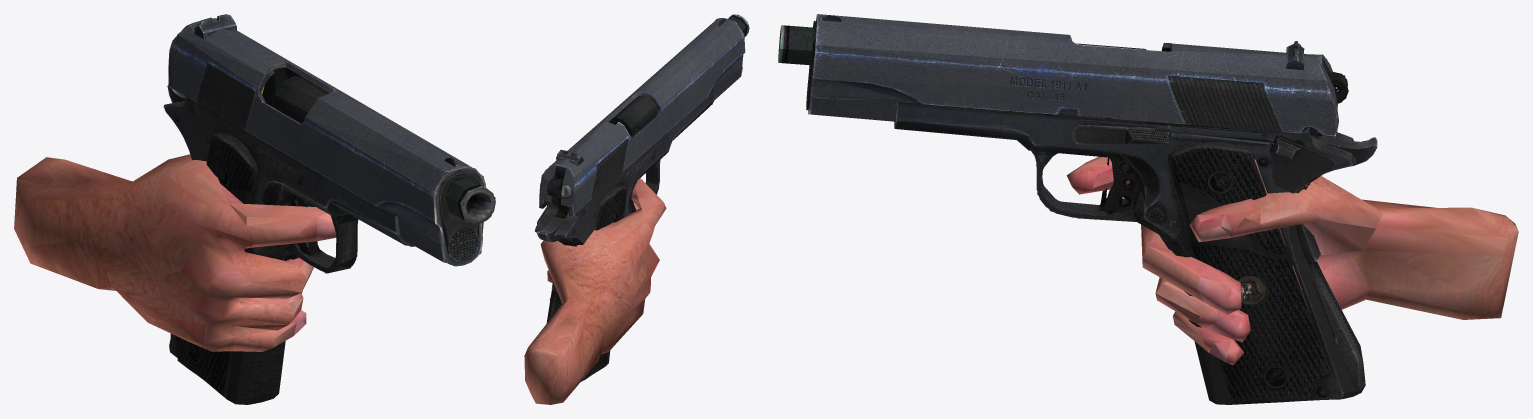
Rendered from Gun_000004.obj.
3 renders of one model, left to right at view 1: azimuth 30°, elevation 25°; view 2: azimuth 150°, elevation 25°; view 3: azimuth 270°, elevation 25°, orthographic. The views are drawn at different scales.
Visible parts, largest first — view 1: ZBrushPolyMesh3D, Slide, Mesh_0008; view 2: ZBrushPolyMesh3D, Slide, Mesh_0008, Hammer; view 3: Mesh_0008, Slide, ZBrushPolyMesh3D, Trigger.
Boxes of the visible parts, x1,y1,x2,y2 form: ZBrushPolyMesh3D: (14,154,336,351); Slide: (168,14,486,266); Mesh_0008: (163,76,495,404); ZBrushPolyMesh3D: (524,178,666,404); Slide: (539,18,745,215); Mesh_0008: (535,14,749,381); Hammer: (547,177,569,218); Mesh_0008: (778,25,1377,404); Slide: (806,14,1338,136); ZBrushPolyMesh3D: (1066,156,1518,364); Trigger: (1099,150,1139,212).
Bounding box in the file's own units: 0.8847 × 1.91 × 3.39.
